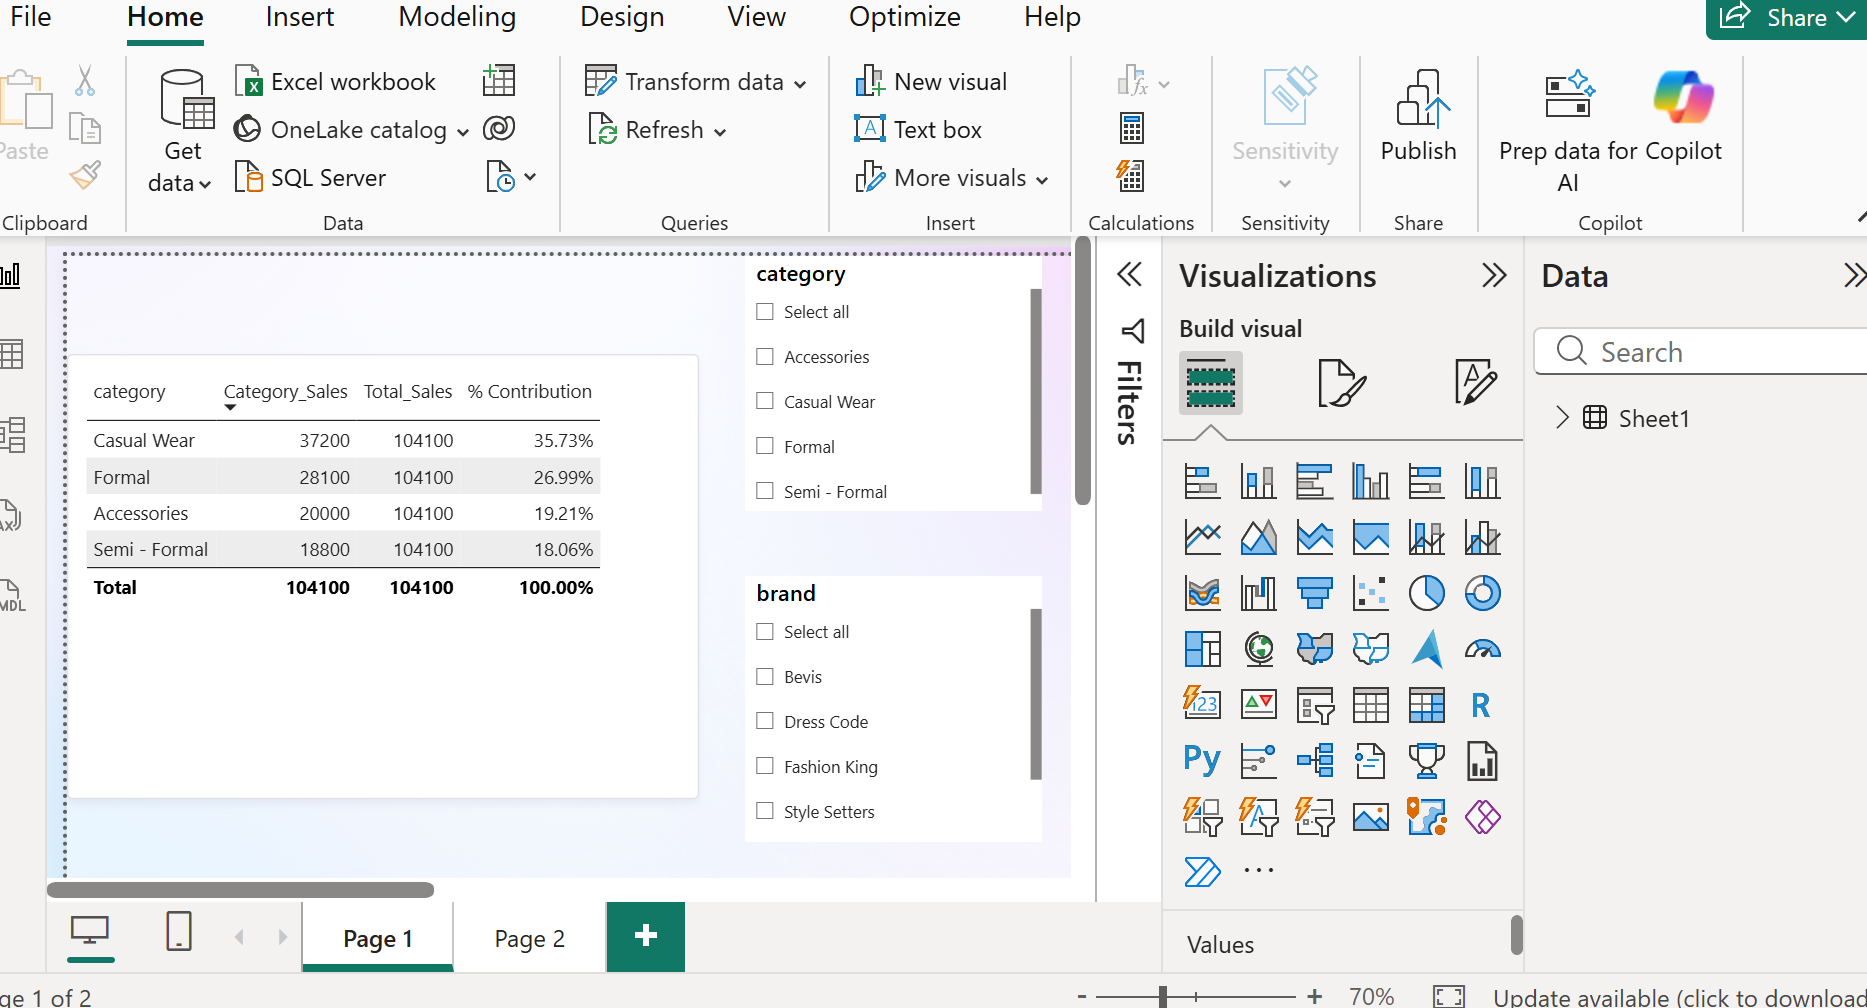

Layout of this report page (visuals, bound fields, positions):
{"tool":"powerbi","page":{"name":"Page 1","canvas":[1920,1080],"ordinal":0},"visuals":[{"type":"tableEx","fields":{"Values":["Sheet1.category","Sheet1.Total_Sales","Sheet1.Total_Sales1","Sheet1.% Contribution"]},"box":[0,69.7,451.5,318.2],"z":0},{"type":"slicer","fields":{"Values":["Sheet1.category"]},"box":[484.8,0,212.1,181.8],"z":1000},{"type":"slicer","fields":{"Values":["Sheet1.brand"]},"box":[484.8,228.8,212.1,189.4],"z":1001}]}

Visuals, with their boxes on the page's 1920x1080 design canvas (x1, y1, x2, y2). These are canvas units, not pixel positions in the 1867x1008 screenshot, which may show the page scaled, cropped or inside an application window:
tableEx - Sheet1.category x Sheet1.Total_Sales: [left=0, top=70, right=452, bottom=388]
slicer - Sheet1.category: [left=485, top=0, right=697, bottom=182]
slicer - Sheet1.brand: [left=485, top=229, right=697, bottom=418]
